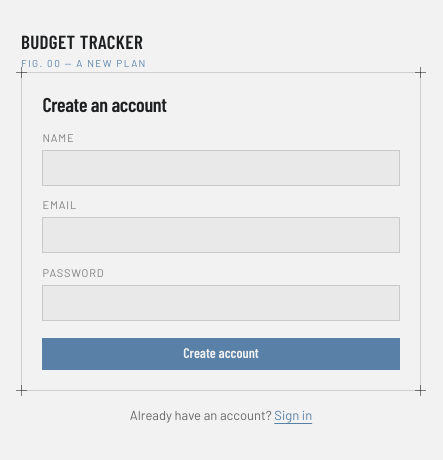
Test: registering › asks for a long password rather than a fiddly one
Step 1. Type "Ada" into the field labelled "Name" → (221,168), box [42, 150, 400, 186]
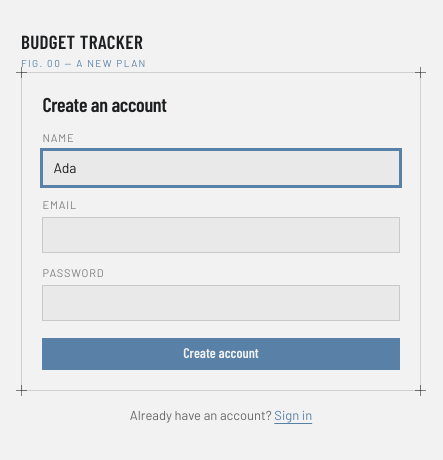
Step 2. Type "ada@example.com" into the field labelled "Email" → (221,235), box [42, 217, 400, 253]
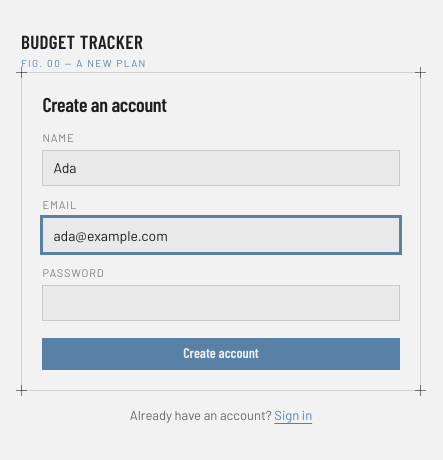
Step 3. Type "short" into the password field labelled "Password" → (221,303), box [42, 285, 400, 321]
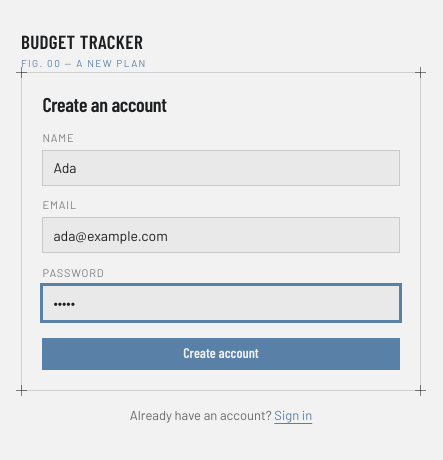
Step 4. Click the button "Create account" → (221,354), box [42, 338, 400, 370]
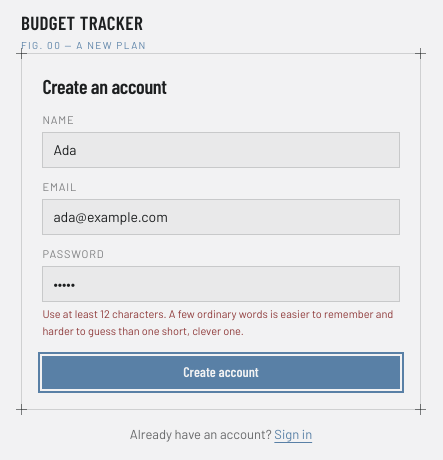
Result: the message shows "at least 12 characters" at [42, 307, 393, 337]
